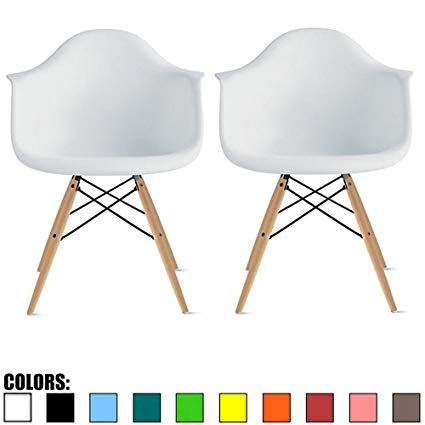chairs: (1, 15, 203, 326), (214, 18, 415, 318)
